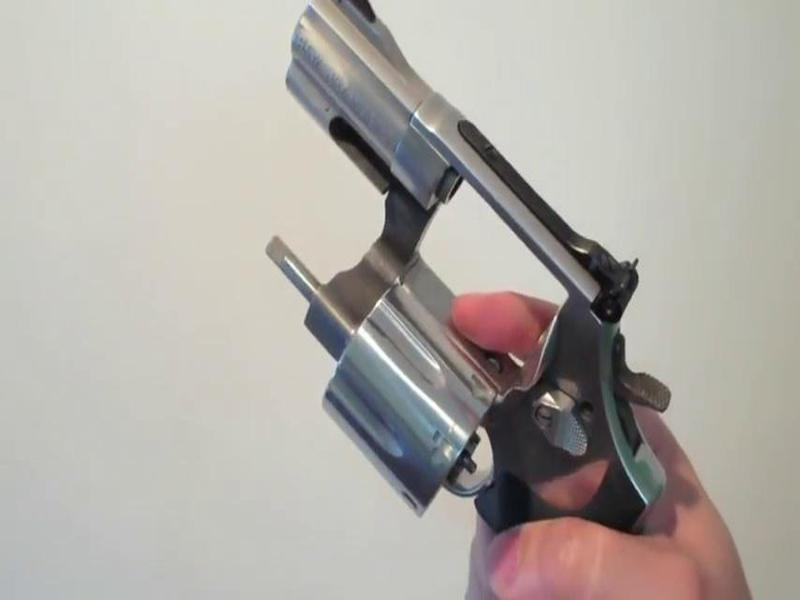Revolver: (227, 3, 715, 577)
